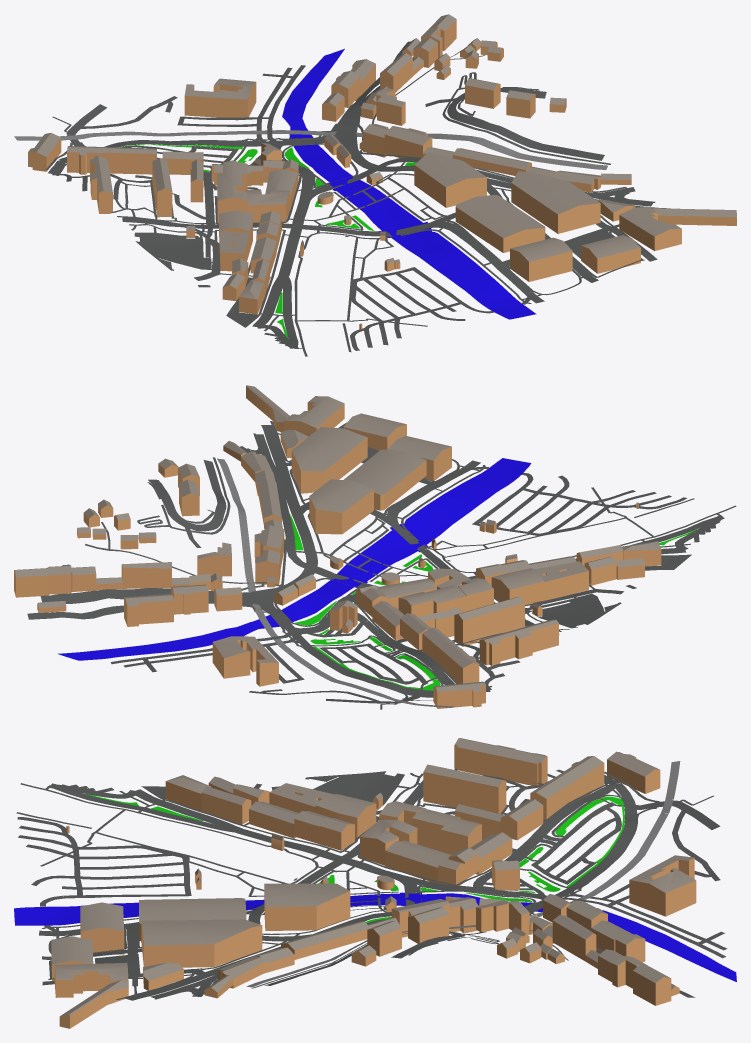
Rendered from RijekaŠkoljić_Converted_MeshesOnly.fbx.
3 renders of one model, top to bottom at view 1: azimuth 30°, elevation 25°; view 2: azimuth 150°, elevation 25°; view 3: azimuth 270°, elevation 25°, orthographic. The views are drawn at different scales.
Parts seen in each view (by area): view 1: map_3.osm_buildings, map_3.osm_water, map_3.osm_paths_footway, map_3.osm_roads_service, map_3.osm_roads_primary, map_3.osm_roads_secondary, map_3.osm_roads_tertiary, map_3.osm_areas_pedestrian, map_3.osm_railways, map_3.osm_roads_residential, map_3.osm_vegetation, map_3.osm_roads_pedestrian; view 2: map_3.osm_buildings, map_3.osm_water, map_3.osm_paths_footway, map_3.osm_roads_service, map_3.osm_roads_primary, map_3.osm_roads_tertiary, map_3.osm_roads_secondary, map_3.osm_roads_residential, map_3.osm_railways, map_3.osm_areas_pedestrian, map_3.osm_vegetation; view 3: map_3.osm_buildings, map_3.osm_roads_service, map_3.osm_paths_footway, map_3.osm_water, map_3.osm_roads_primary, map_3.osm_roads_residential, map_3.osm_roads_secondary, map_3.osm_areas_pedestrian, map_3.osm_roads_tertiary, map_3.osm_railways, map_3.osm_vegetation.
Boxes of the visible parts, x1=… form: map_3.osm_buildings: x1=28, y1=14, x2=736, y2=329; map_3.osm_water: x1=282, y1=48, x2=536, y2=319; map_3.osm_paths_footway: x1=46, y1=72, x2=655, y2=356; map_3.osm_roads_service: x1=52, y1=65, x2=619, y2=350; map_3.osm_roads_primary: x1=252, y1=57, x2=665, y2=326; map_3.osm_roads_secondary: x1=48, y1=140, x2=544, y2=303; map_3.osm_roads_tertiary: x1=256, y1=88, x2=635, y2=348; map_3.osm_areas_pedestrian: x1=134, y1=229, x2=612, y2=327; map_3.osm_railways: x1=14, y1=130, x2=607, y2=169; map_3.osm_roads_residential: x1=62, y1=41, x2=657, y2=282; map_3.osm_vegetation: x1=120, y1=144, x2=416, y2=338; map_3.osm_roads_pedestrian: x1=194, y1=227, x2=610, y2=280; map_3.osm_buildings: x1=14, y1=385, x2=661, y2=708; map_3.osm_water: x1=58, y1=458, x2=531, y2=660; map_3.osm_paths_footway: x1=44, y1=421, x2=736, y2=704; map_3.osm_roads_service: x1=110, y1=466, x2=719, y2=701; map_3.osm_roads_primary: x1=40, y1=425, x2=686, y2=633; map_3.osm_roads_tertiary: x1=148, y1=446, x2=724, y2=569; map_3.osm_roads_secondary: x1=286, y1=460, x2=559, y2=697; map_3.osm_roads_residential: x1=27, y1=422, x2=455, y2=703; map_3.osm_railways: x1=217, y1=458, x2=454, y2=707; map_3.osm_areas_pedestrian: x1=361, y1=447, x2=691, y2=628; map_3.osm_vegetation: x1=290, y1=514, x2=696, y2=690; map_3.osm_buildings: x1=51, y1=738, x2=696, y2=1028; map_3.osm_roads_service: x1=17, y1=769, x2=727, y2=986; map_3.osm_paths_footway: x1=16, y1=768, x2=682, y2=999; map_3.osm_water: x1=14, y1=892, x2=736, y2=981; map_3.osm_roads_primary: x1=125, y1=789, x2=547, y2=1000; map_3.osm_roads_residential: x1=42, y1=784, x2=720, y2=998; map_3.osm_roads_secondary: x1=39, y1=775, x2=637, y2=941; map_3.osm_areas_pedestrian: x1=94, y1=771, x2=404, y2=974; map_3.osm_roads_tertiary: x1=50, y1=783, x2=464, y2=996; map_3.osm_railways: x1=246, y1=761, x2=680, y2=987; map_3.osm_vegetation: x1=86, y1=794, x2=624, y2=922.
Bounding box in the file's own units: 434 × 64.08 × 498.
